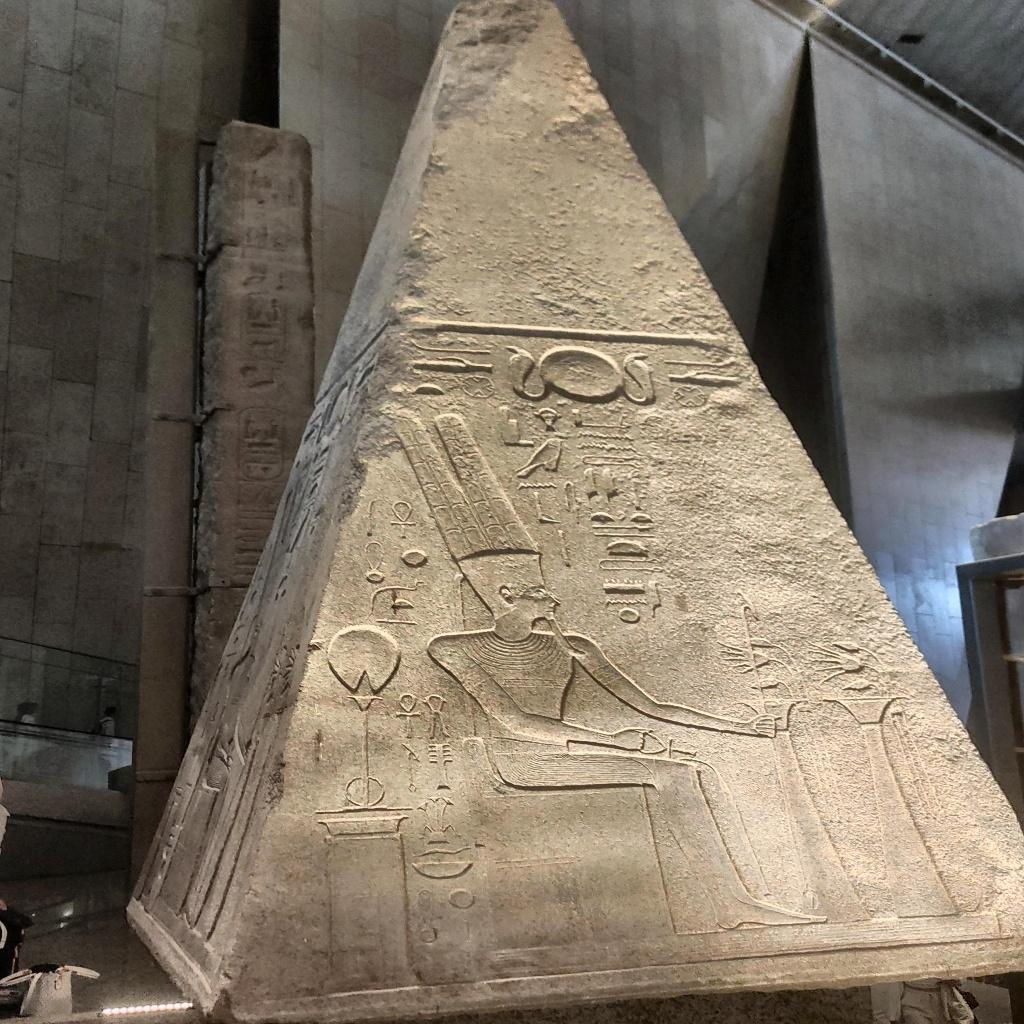Obelsik Tip of Hatshepsut: (117, 0, 1024, 1020)
